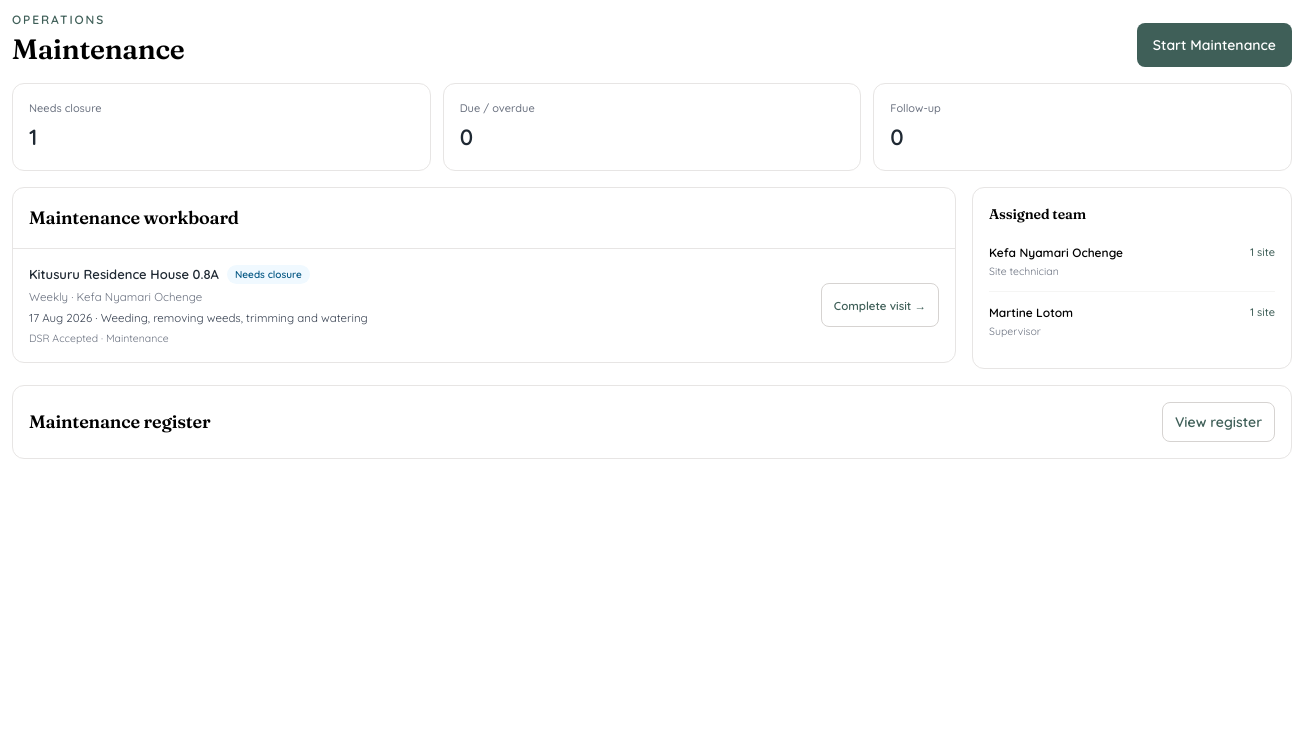
Test case: Maintenance workboard › keeps the permanent register collapsed by default
Expected: the column heading "Arrangement" is not shown
Step 1. Click the button "View register" → [1218, 422], box x1=1162 y1=402 x2=1275 y2=442
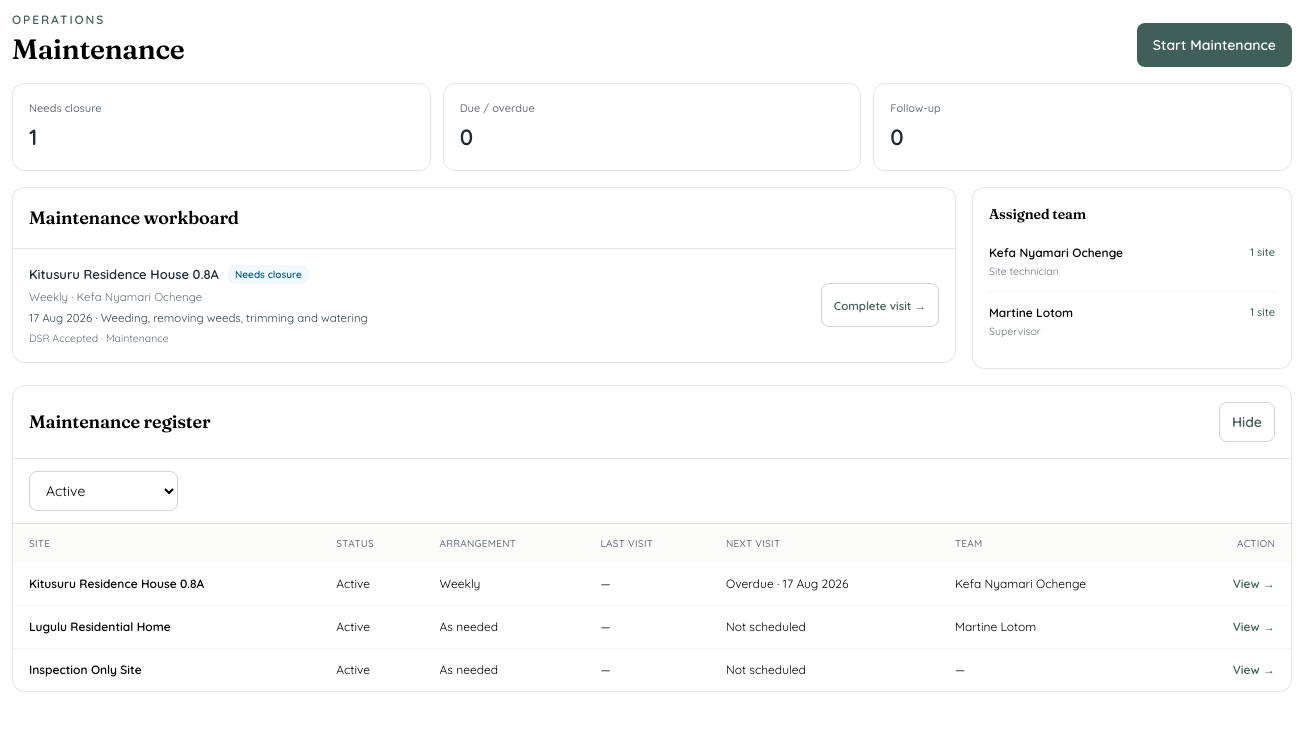
Now the column heading "Arrangement" is shown, box x1=424 y1=524 x2=584 y2=563
